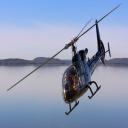helicopter: (8, 1, 123, 117)
